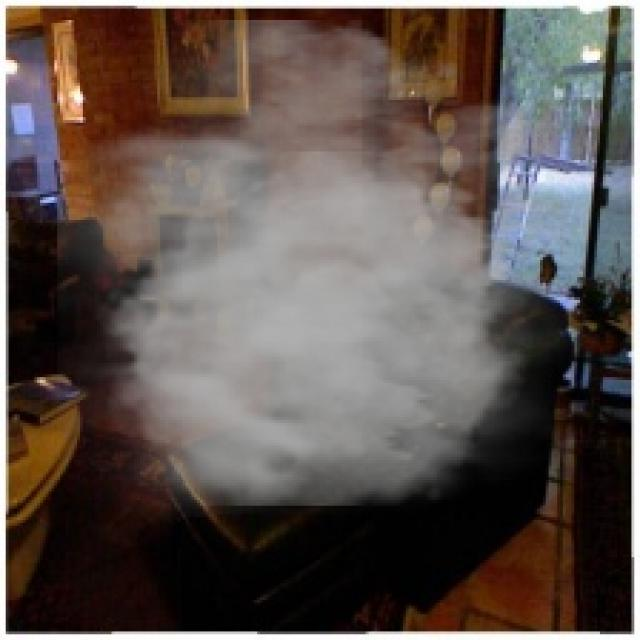smoke: (57, 20, 609, 537)
